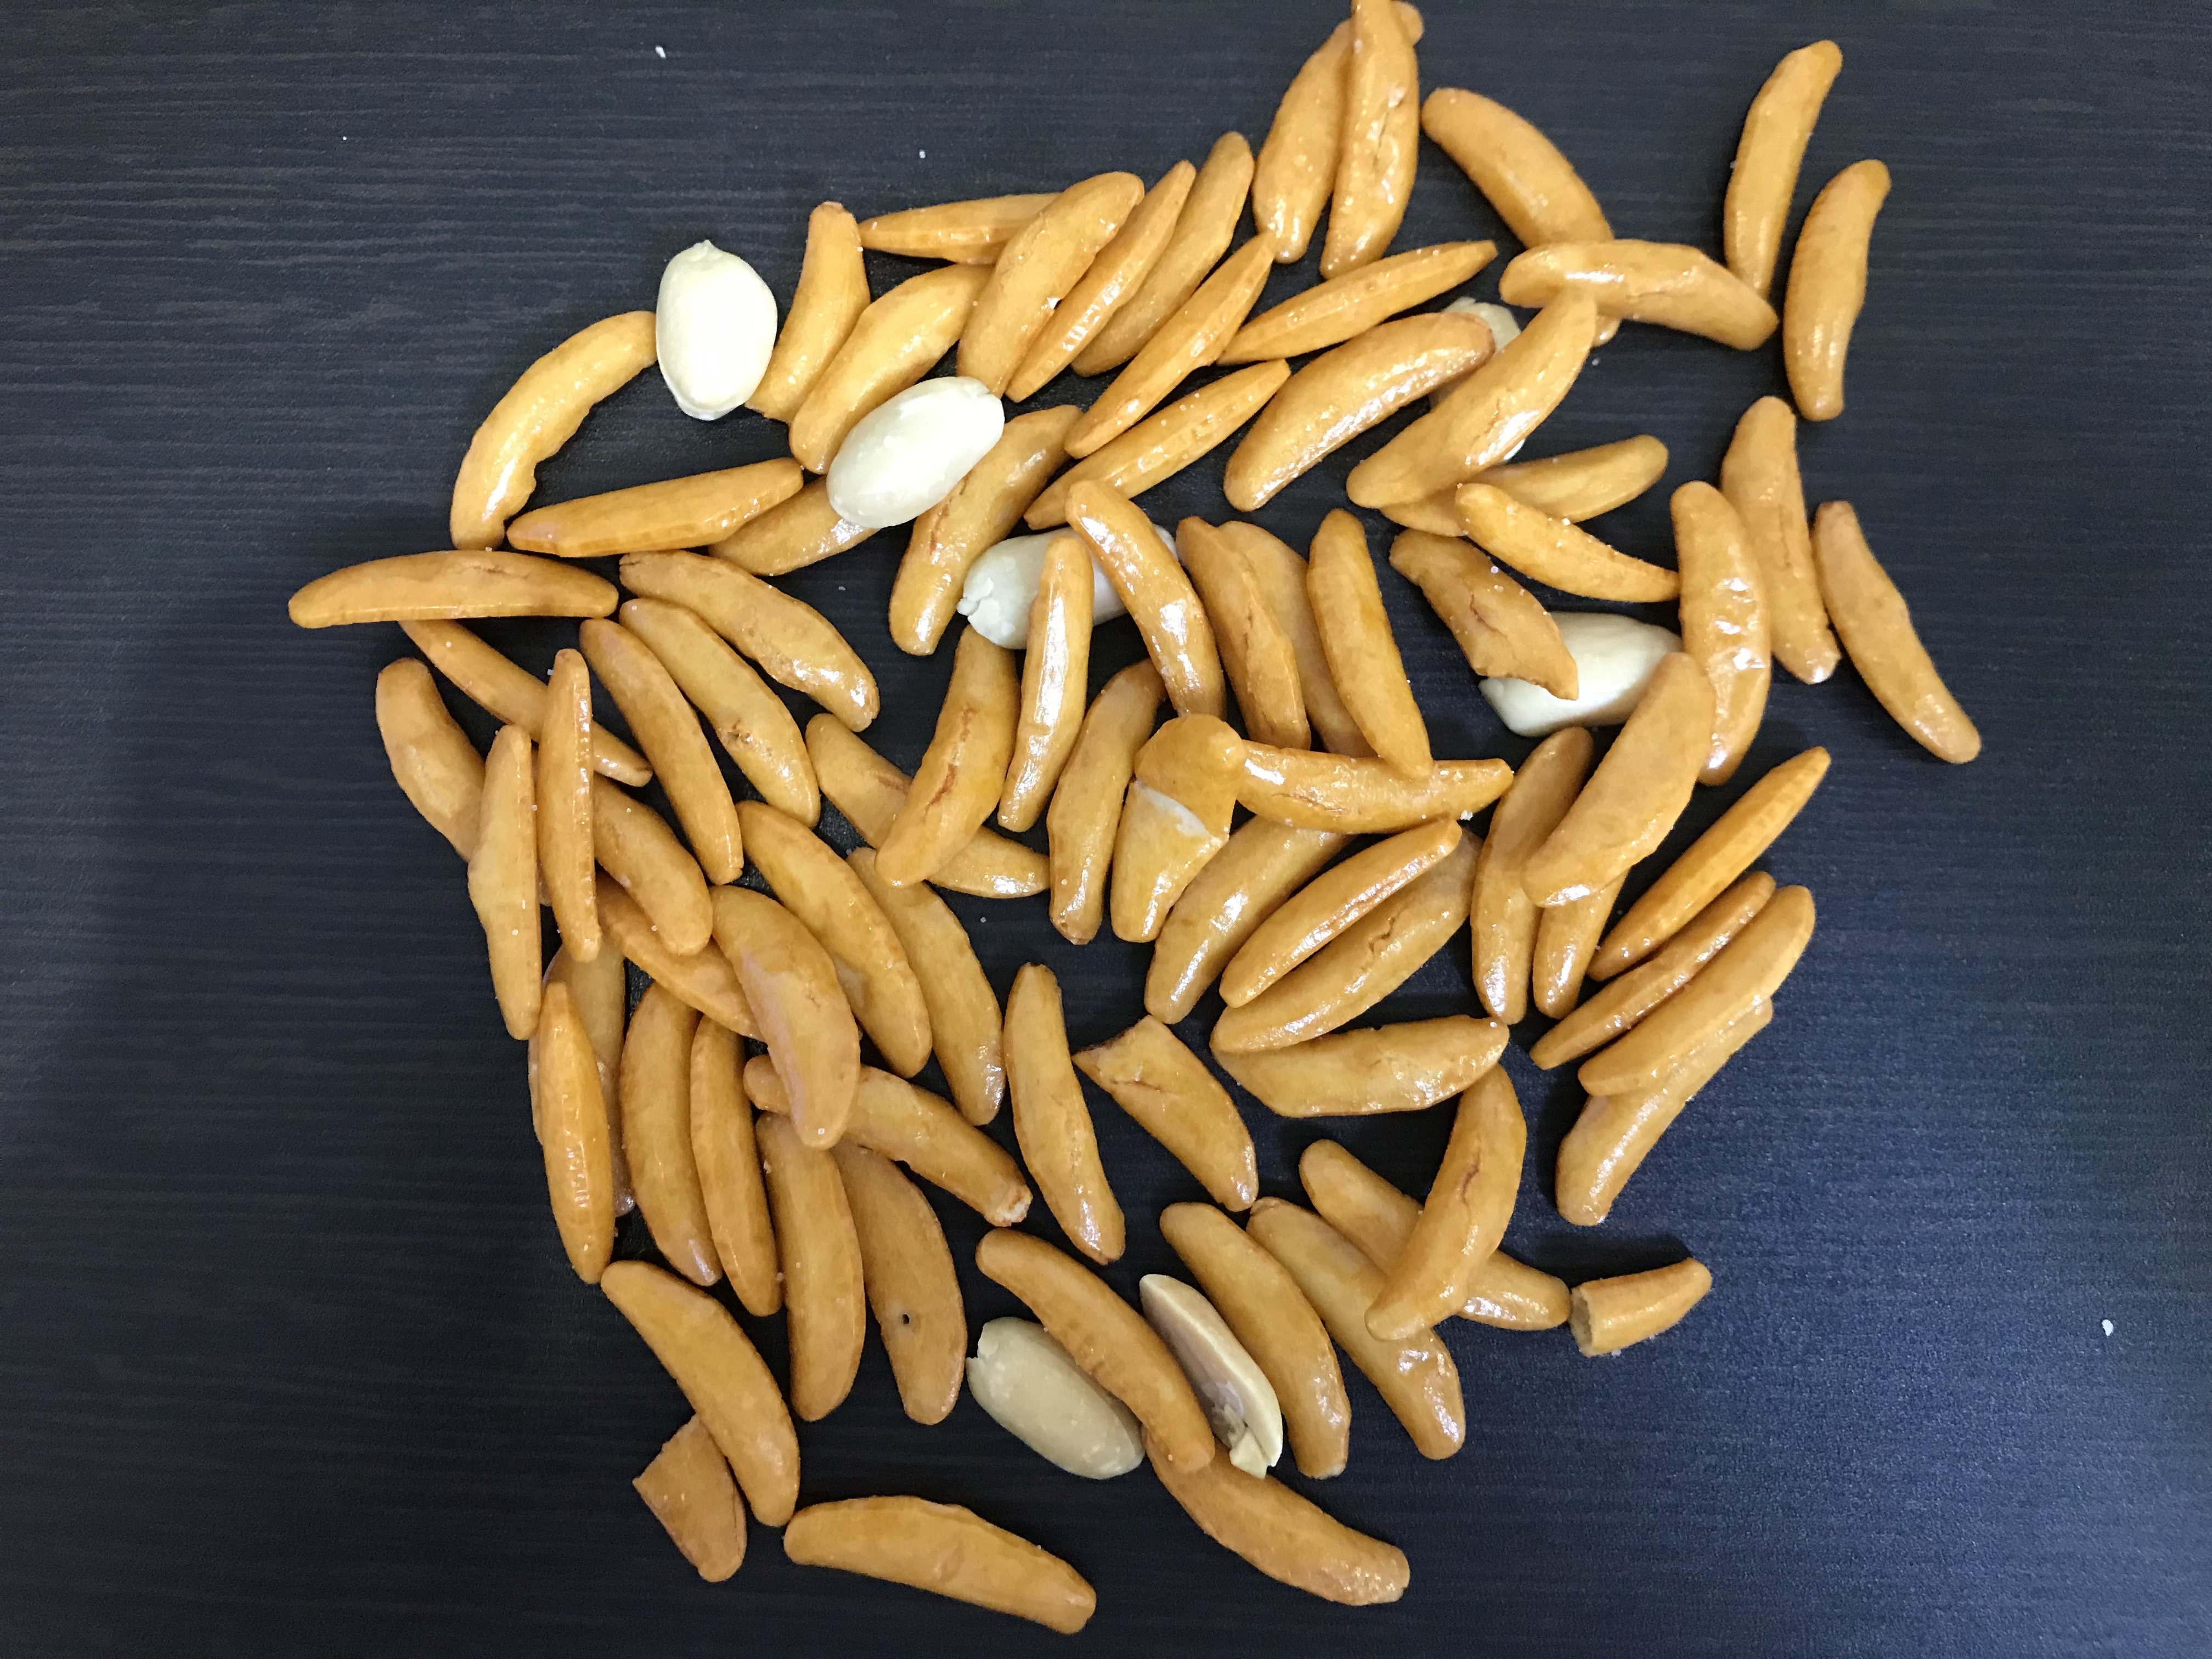peanut: (965, 516, 1191, 653), (1137, 1269, 1285, 1474), (961, 1314, 1141, 1481), (817, 378, 1015, 526), (1479, 617, 1695, 744), (653, 232, 780, 416)
